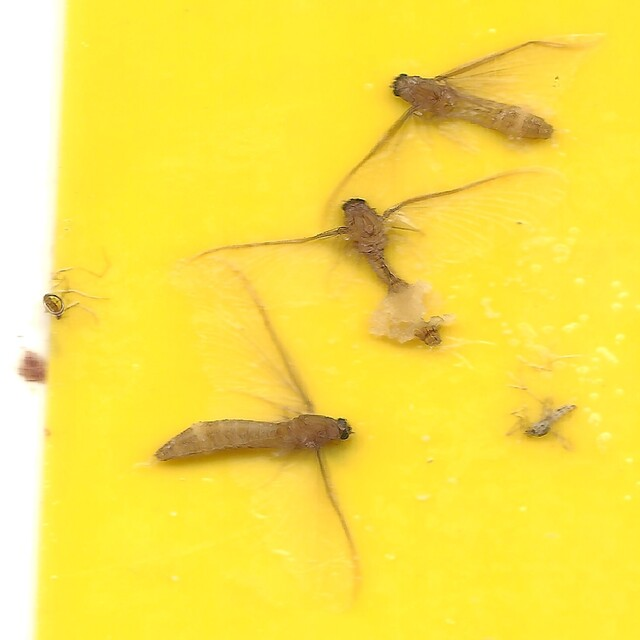Ephemeroptera: (154, 256, 365, 602), (179, 166, 557, 348), (324, 38, 596, 210)
Nematocera: (44, 288, 112, 322)
